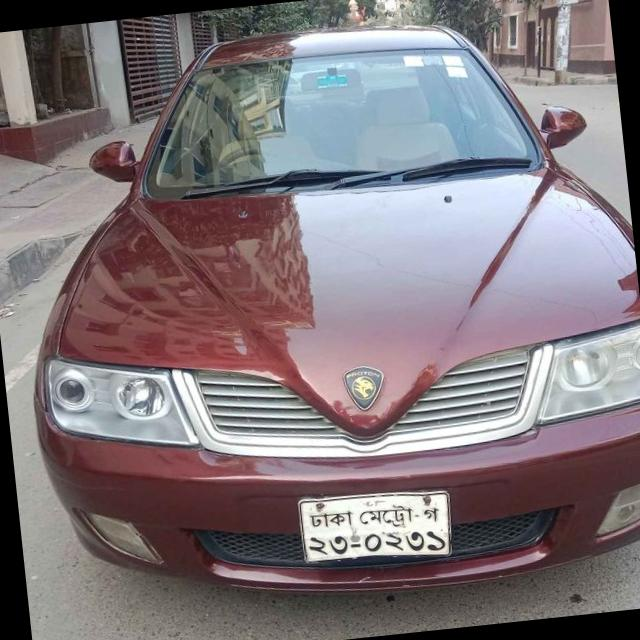Number-Plate: (299, 484, 455, 568)
